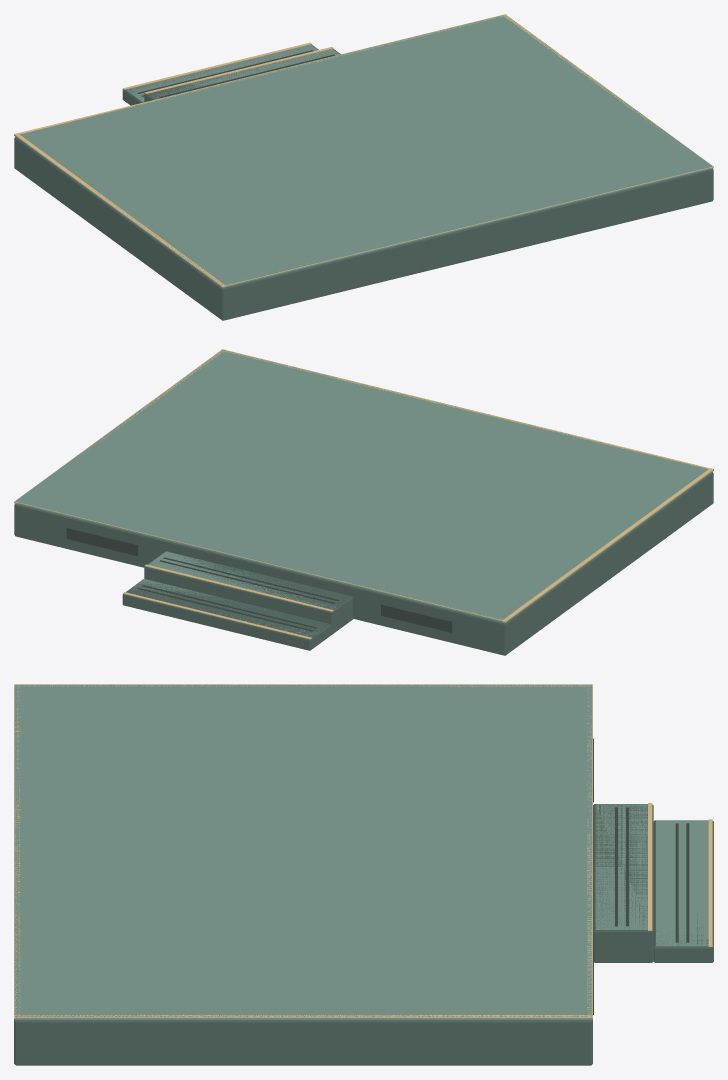
Rendered from stage.glb.
The picture shows the model from 3 angles, top to bottom: view 1: azimuth 30°, elevation 25°; view 2: azimuth 150°, elevation 25°; view 3: azimuth 270°, elevation 25°; orthographic projection. The views are drawn at different scales.
Parts seen in each view (by area): view 1: Carpet top.002, Raised platform | 4.7 x 3.45 x 0.32 m.002, Side edge.003, Anti slip strip.005; view 2: Carpet top.002, Raised platform | 4.7 x 3.45 x 0.32 m.002, Side edge.003, Anti slip strip.005; view 3: Carpet top.002, Raised platform | 4.7 x 3.45 x 0.32 m.002, Side edge.003, Anti slip strip.005.
Part boxes in pixels (x1,y1,x2,y2): Carpet top.002: (14, 14, 713, 288); Raised platform | 4.7 x 3.45 x 0.32 m.002: (14, 44, 713, 320); Side edge.003: (14, 14, 713, 287); Anti slip strip.005: (138, 50, 335, 98); Carpet top.002: (14, 349, 713, 637); Raised platform | 4.7 x 3.45 x 0.32 m.002: (14, 472, 713, 655); Side edge.003: (14, 349, 713, 639); Anti slip strip.005: (66, 528, 452, 632); Carpet top.002: (14, 684, 708, 1020); Raised platform | 4.7 x 3.45 x 0.32 m.002: (14, 804, 713, 1065); Side edge.003: (14, 684, 712, 1018); Anti slip strip.005: (593, 738, 689, 1014).
Bounding box in the file's own units: 4.7 × 0.32 × 4.17.
